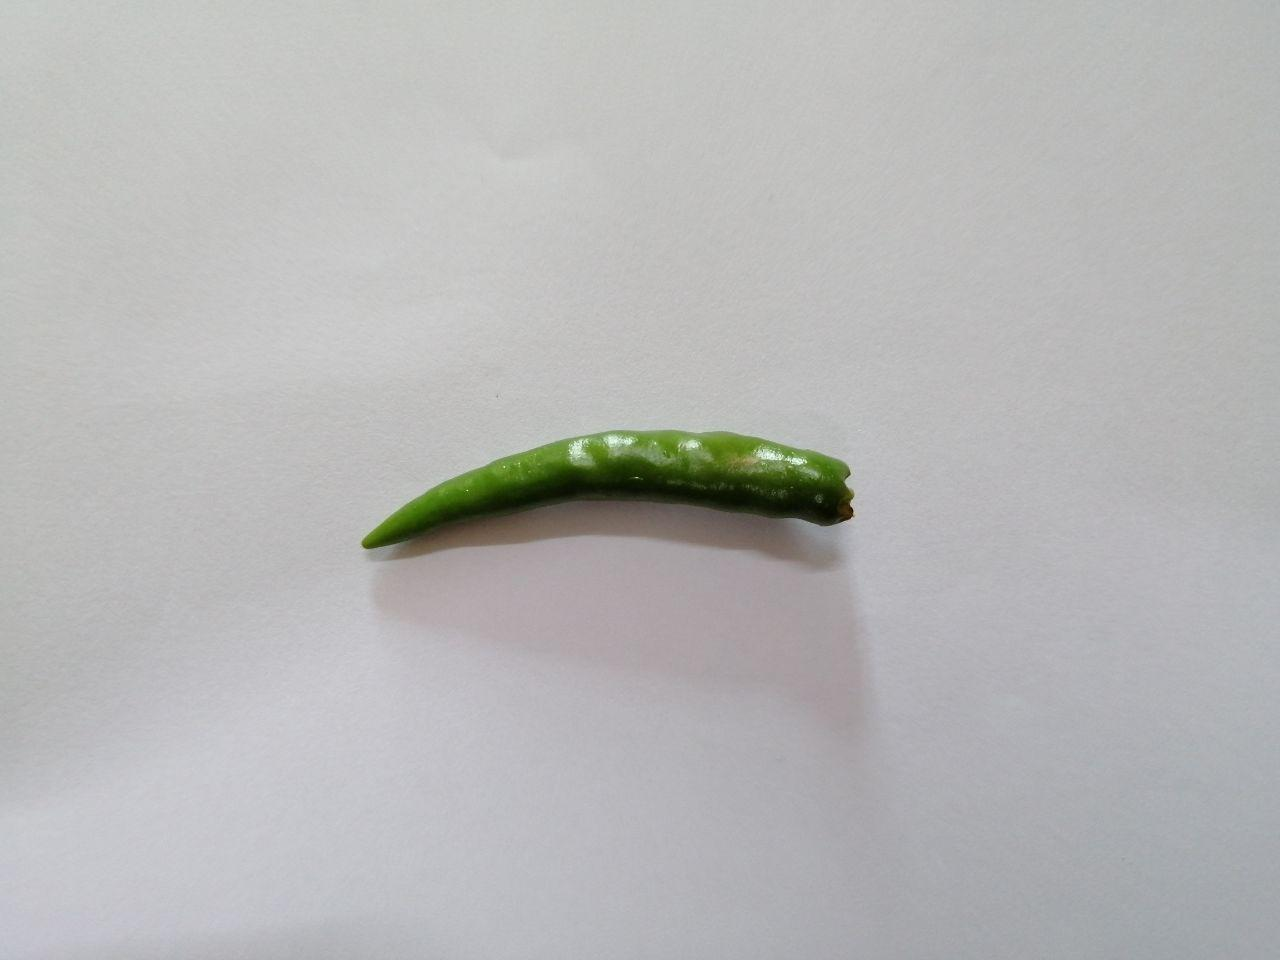lada hijau: (334, 414, 899, 584)
